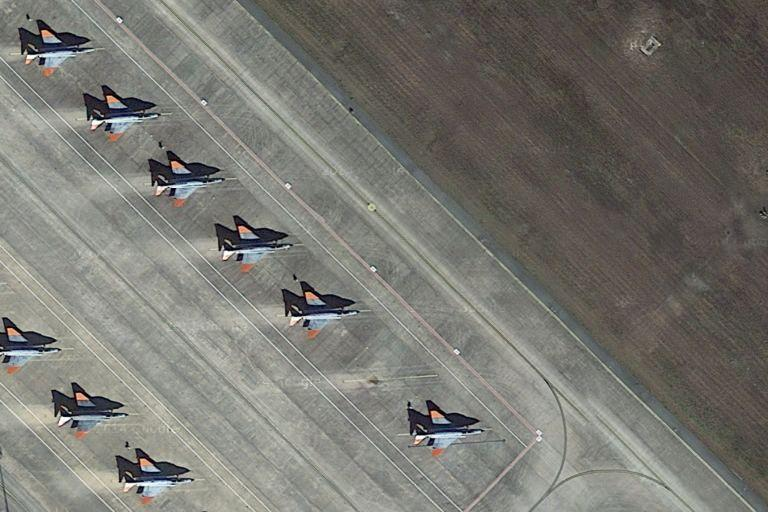plane: (15, 19, 106, 77), (278, 285, 375, 339), (144, 154, 241, 207), (78, 89, 174, 142), (211, 222, 308, 272), (404, 405, 497, 457), (115, 453, 209, 504), (49, 388, 139, 440), (1, 316, 63, 377)
